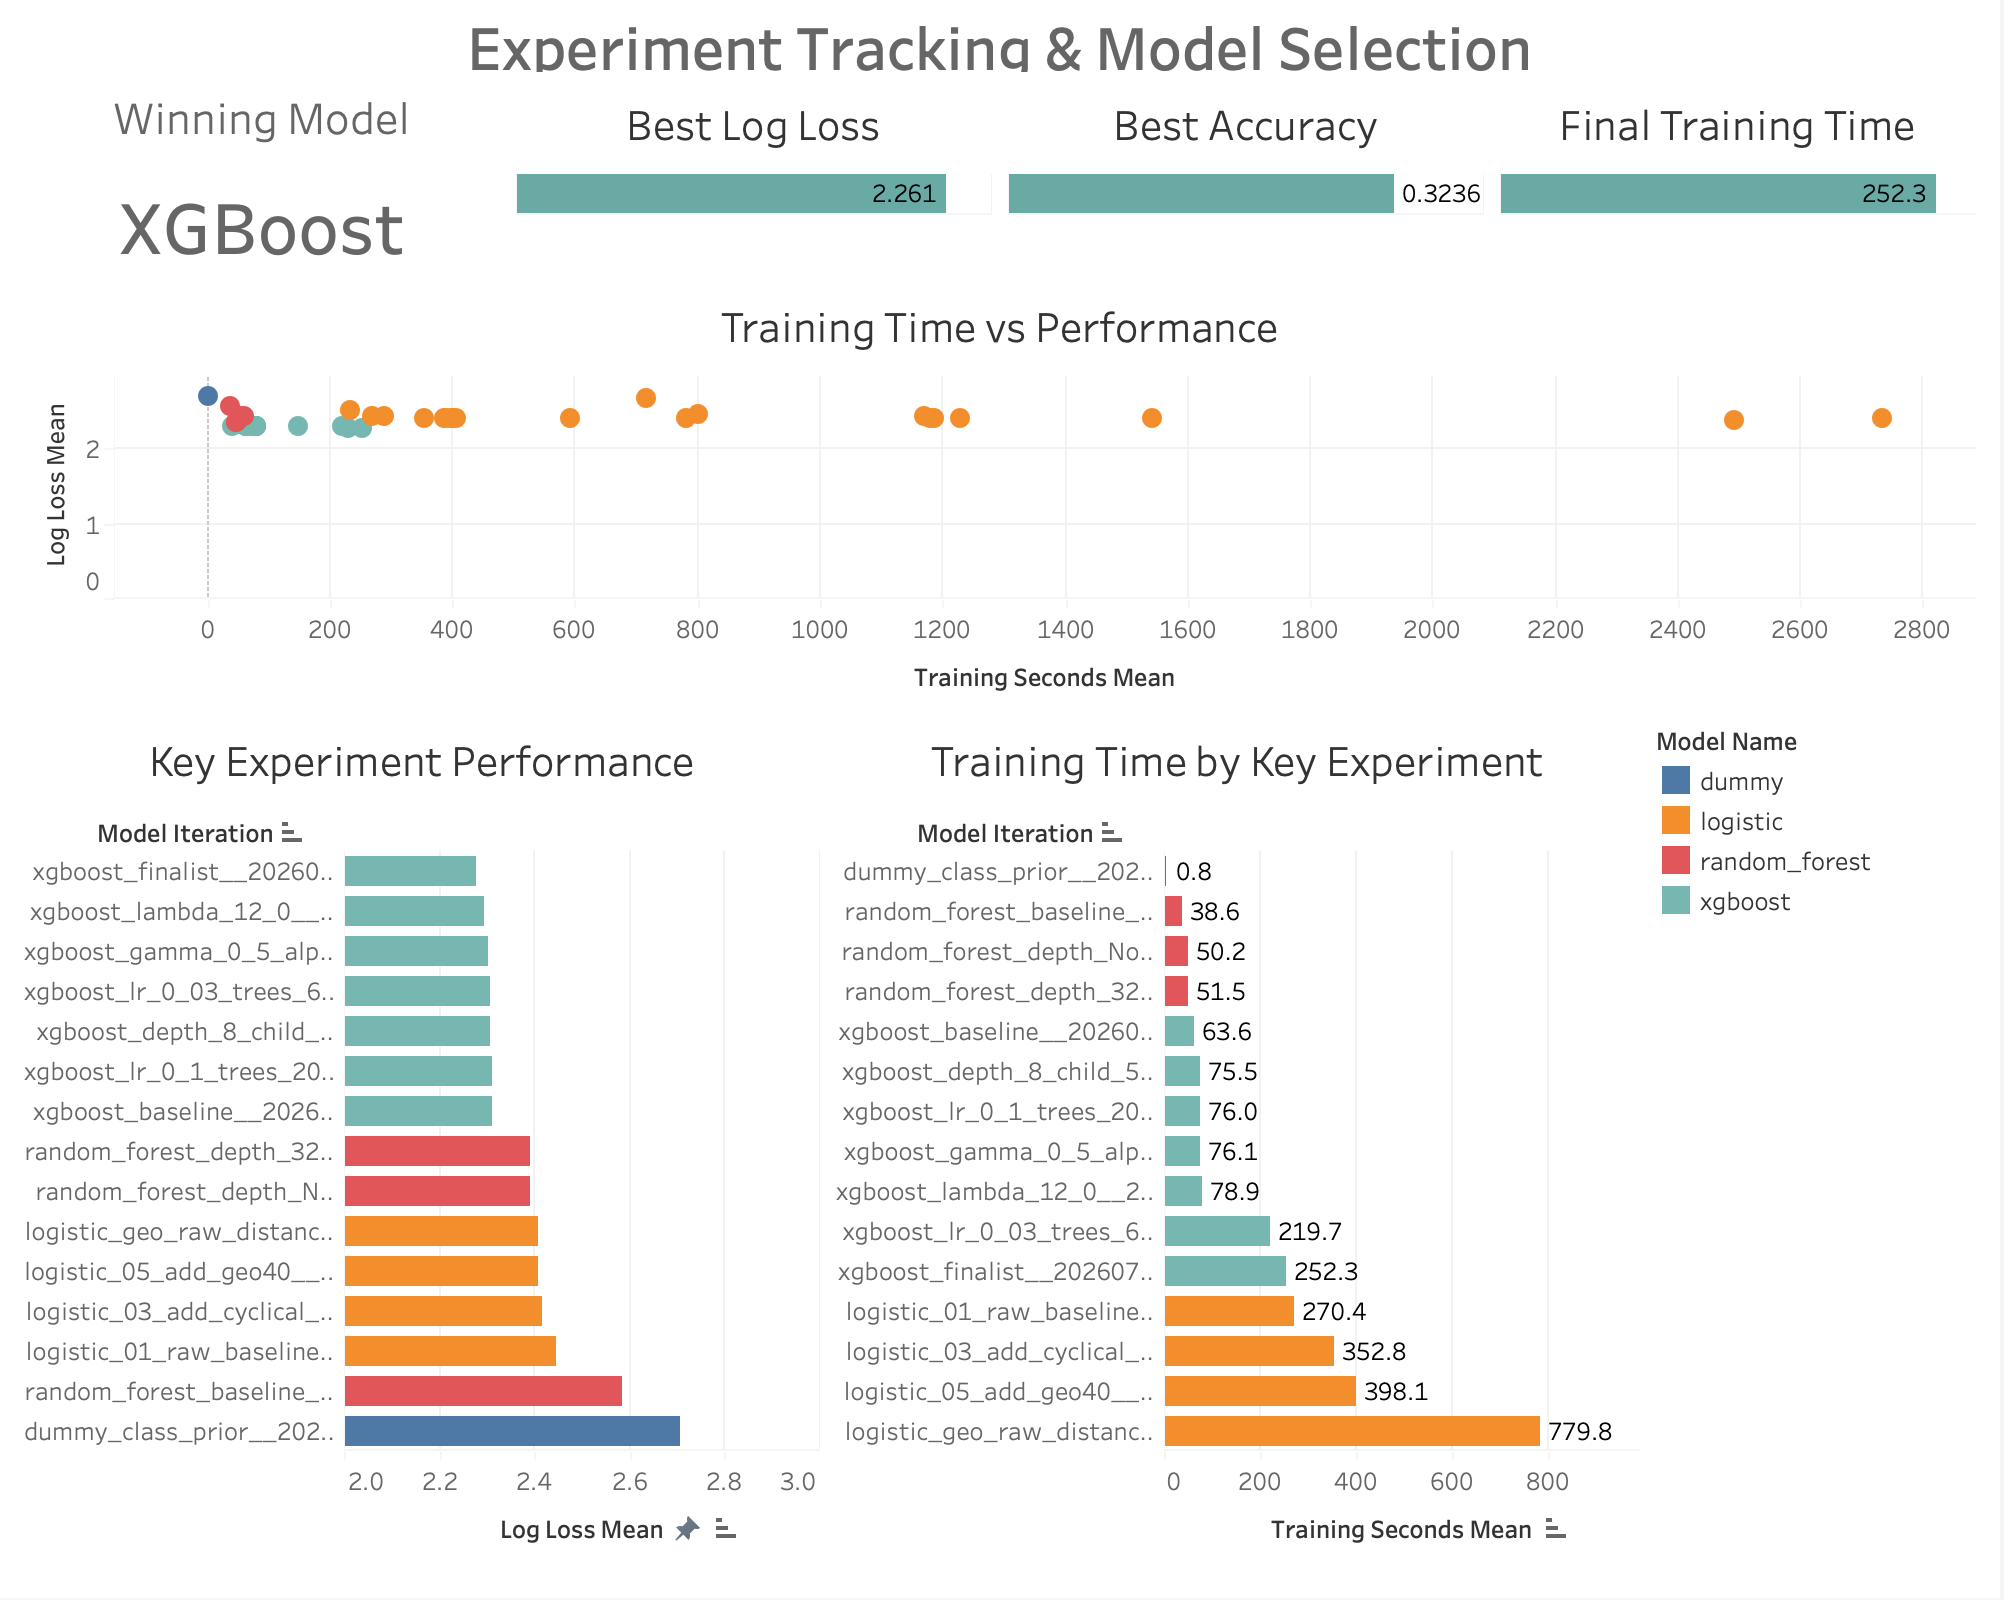

What the dashboard file says about the page in this screenshot:
{"tool":"tableau","page":{"name":"Experiment Tracking","canvas":[1000,800],"ordinal":0},"visuals":[{"type":"text","box":[8,8,984,33]},{"type":"text","box":[8,41,246,101]},{"type":"worksheet","title":"Best Log Loss","mark":"Automatic","rows":["run_id"],"cols":["log_loss_min"],"box":[254,41,246,101]},{"type":"worksheet","title":"Best Accuracy","mark":"Automatic","rows":["run_id"],"cols":["accuracy_max"],"box":[500,41,246,101]},{"type":"worksheet","title":"Fastest Training","mark":"Automatic","rows":["run_id"],"cols":["training_seconds_mean"],"box":[746,41,246,101]},{"type":"worksheet","title":"Iteration Scatterplot","mark":"Circle","rows":["log_loss_mean"],"cols":["training_seconds_mean"],"box":[8,142,984,217]},{"type":"worksheet","title":"Key Experiment Performance","mark":"Automatic","rows":["run_id"],"cols":["log_loss_mean"],"box":[8,359,406,433]},{"type":"worksheet","title":"Training Time by Key Experiment","mark":"Automatic","rows":["run_id"],"cols":["training_seconds_mean"],"box":[414,359,410,433]},{"type":"legend","title":"Key Experiment Performance","param":"[federated.173bnlh04r9fwf1afiesg12am4xq].[none:model_name:nk]","box":[824,359,168,433]}]}

Visuals, with their boxes in screenshot pixels (x1, y1, x2, y2), scaled from the page's 1000x800 canvas onto the 2004x1600 screenshot:
text: region(16, 16, 1988, 82)
text: region(16, 82, 509, 284)
"Best Log Loss" worksheet: region(509, 82, 1002, 284)
"Best Accuracy" worksheet: region(1002, 82, 1495, 284)
"Fastest Training" worksheet: region(1495, 82, 1988, 284)
"Iteration Scatterplot" worksheet (Circle marks): region(16, 284, 1988, 718)
"Key Experiment Performance" worksheet: region(16, 718, 830, 1584)
"Training Time by Key Experiment" worksheet: region(830, 718, 1651, 1584)
"Key Experiment Performance" legend: region(1651, 718, 1988, 1584)
